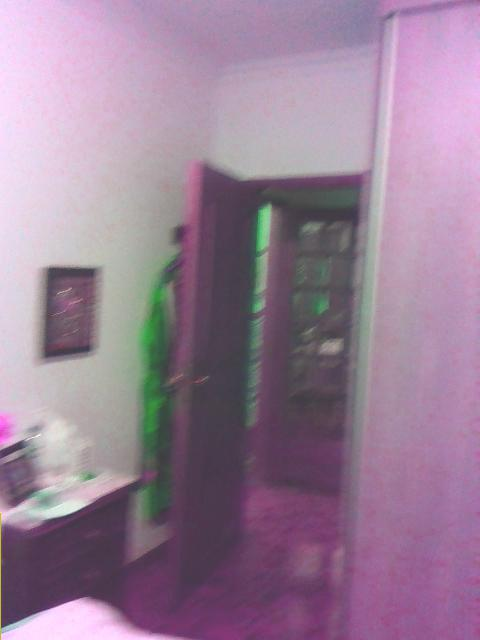open_door: (205, 172, 370, 601)
